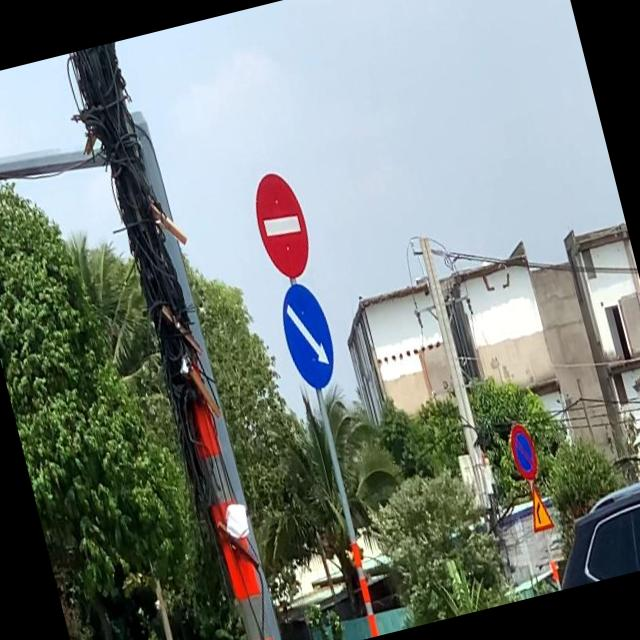P-102: (246, 165, 318, 281)
P-131a: (506, 422, 544, 482)
R-302a: (274, 278, 342, 392)
W-201b: (522, 488, 554, 534)
